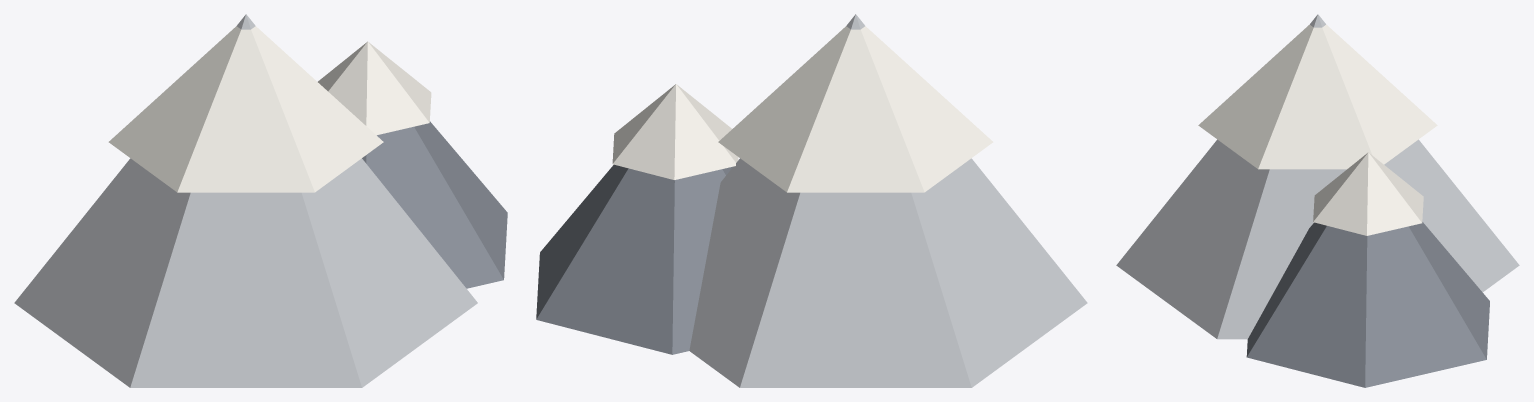
Rendered from mountain_snow.glb.
3 views of the same model, side by side, from view 1: azimuth 30°, elevation 25°; view 2: azimuth 150°, elevation 25°; view 3: azimuth 270°, elevation 25° (orthographic). The views are drawn at different scales.
Visible parts, largest first — view 1: mountain_snow; view 2: mountain_snow; view 3: mountain_snow.
Boxes of the visible parts, x1,y1,x2,y2 form: mountain_snow: (14, 14, 507, 387); mountain_snow: (536, 14, 1087, 387); mountain_snow: (1116, 14, 1519, 387).
Bounding box in the file's own units: 7.37 × 4.4 × 6.4.
1 material, 1 textured.
